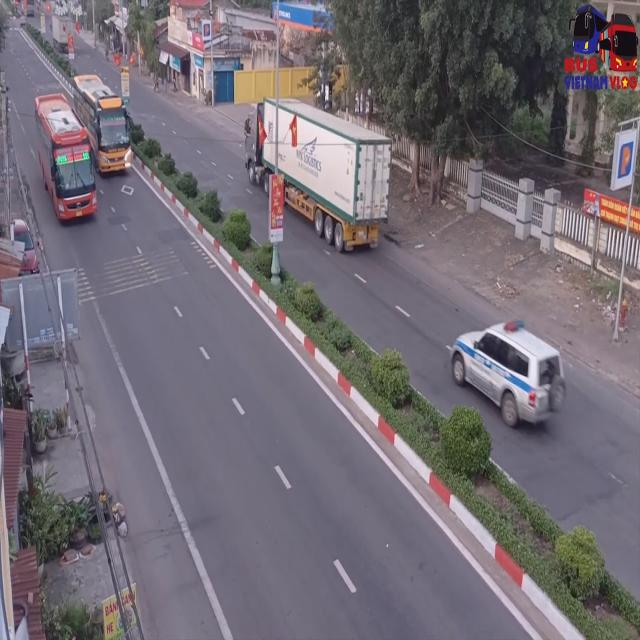bus: (38, 92, 100, 223), (69, 72, 129, 177)
car: (449, 319, 565, 429)
truck: (246, 94, 389, 256)
